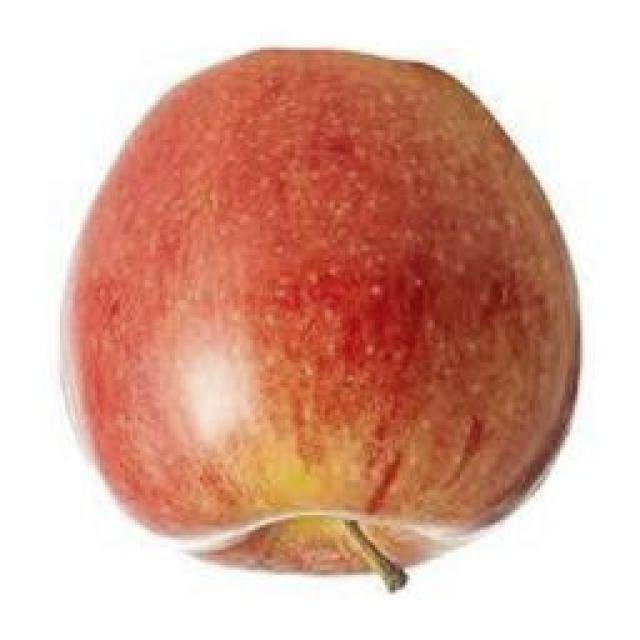Apple: (64, 49, 579, 590)
